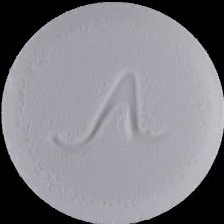63187-143: (0, 0, 224, 224)
